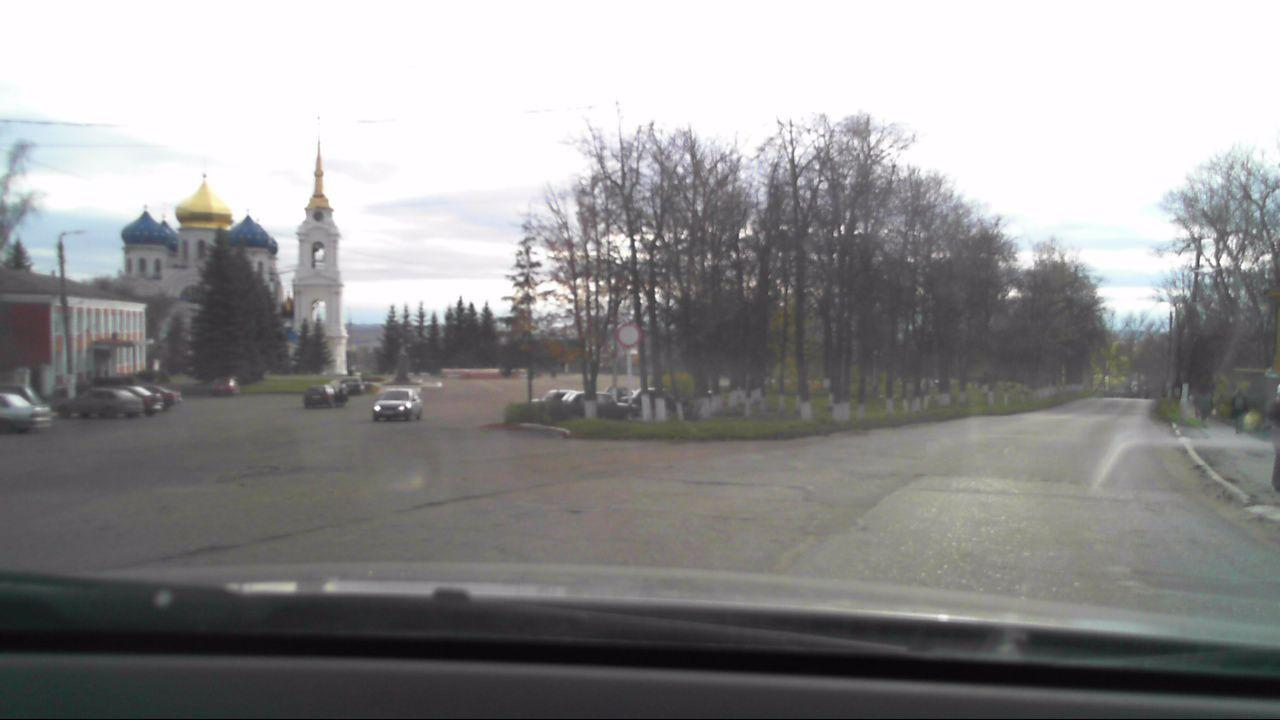3_2: (615, 322, 639, 347)
